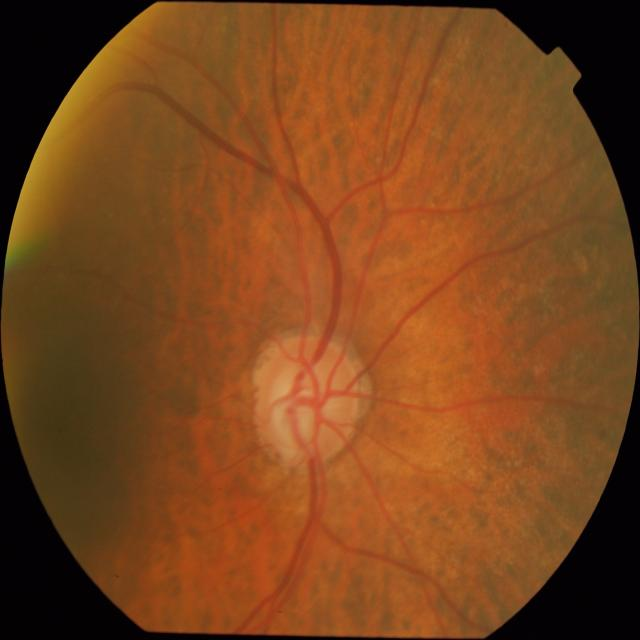OC: (271, 362, 341, 447)
OD: (253, 334, 364, 466)
